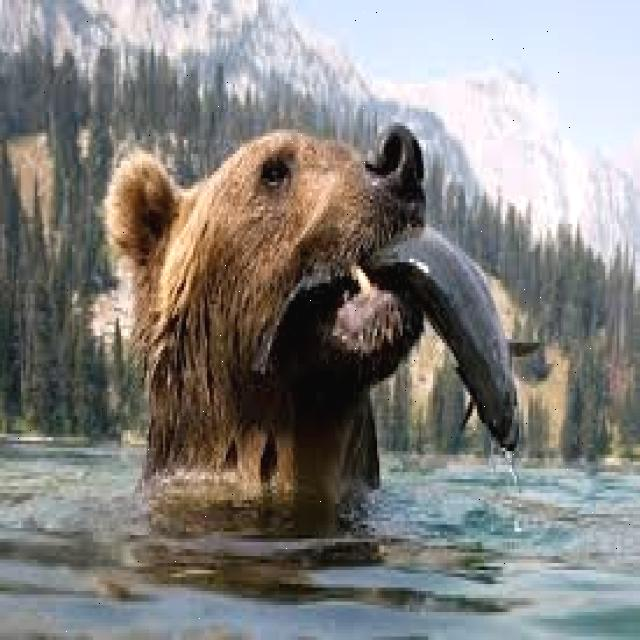bear: (99, 72, 504, 509)
